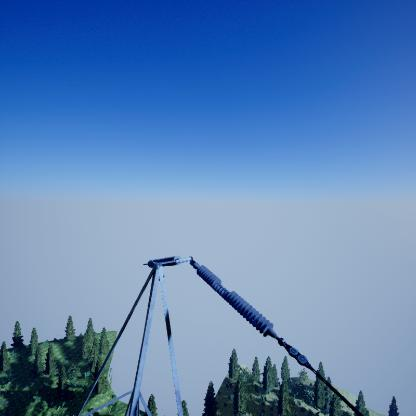insulator: (195, 263, 275, 340), (146, 255, 182, 269)
